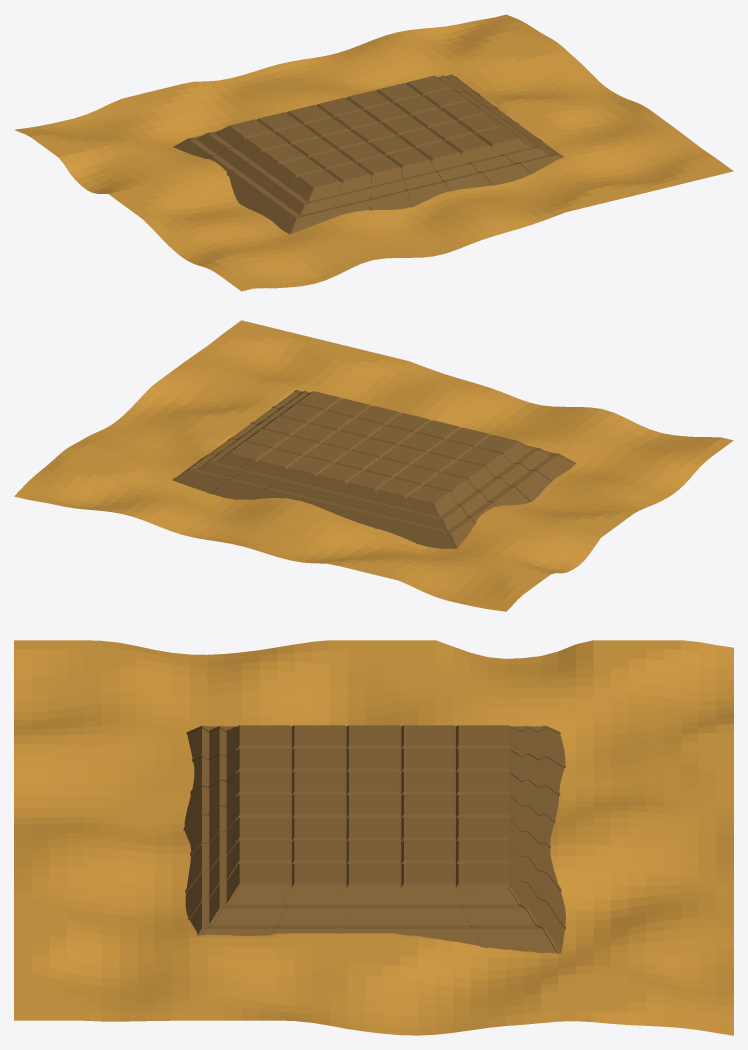
The model's file is wuesten Map v2 .fbx.
3 renders of one model, top to bottom at view 1: azimuth 30°, elevation 25°; view 2: azimuth 150°, elevation 25°; view 3: azimuth 270°, elevation 25°, orthographic. The views are drawn at different scales.
Parts seen in each view (by area): view 1: Plane.001, Cube; view 2: Plane.001, Cube; view 3: Plane.001, Cube.
Boxes of the visible parts, left/top/right/bottom form: Plane.001: left=14, top=14, right=733, bottom=291; Cube: left=173, top=74, right=563, bottom=234; Plane.001: left=14, top=320, right=733, bottom=611; Cube: left=172, top=390, right=576, bottom=548; Plane.001: left=14, top=640, right=733, bottom=1035; Cube: left=183, top=725, right=566, bottom=953.
Bounding box in the file's own units: 5000 × 288 × 4000.
Materials: 2 (1 with a texture image).
